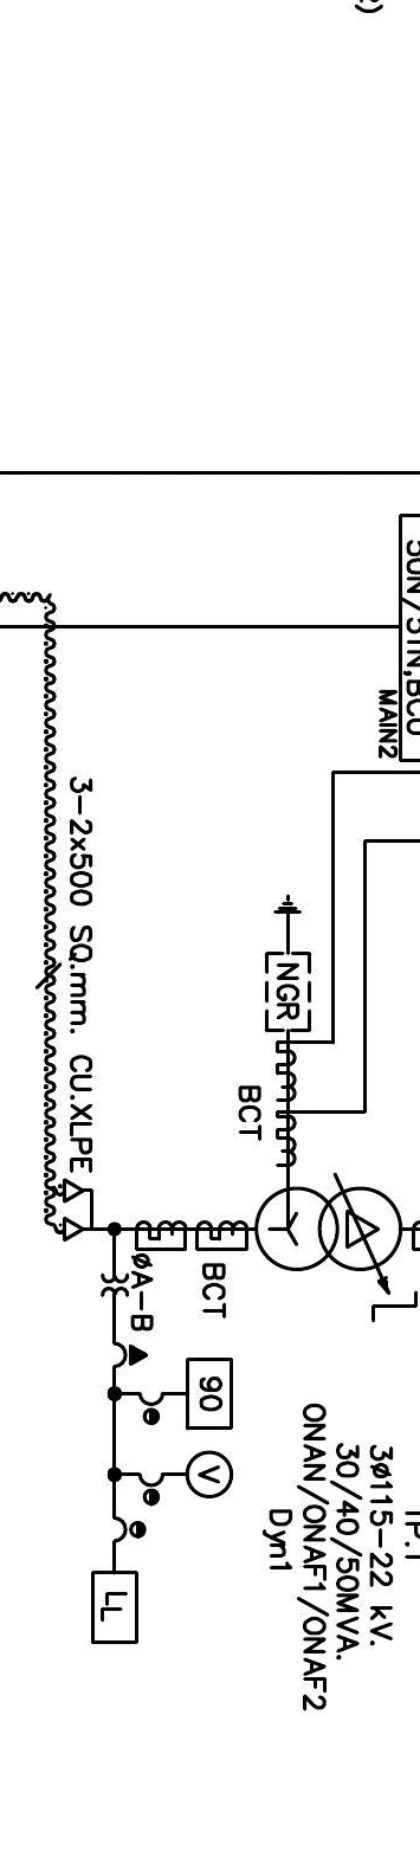11522_tx_dyn1: (254, 1186, 403, 1272)
LL: (90, 1570, 139, 1645)
NGR_future: (264, 893, 312, 1033)
terminator_double: (62, 1178, 94, 1242)
v_m: (185, 1449, 235, 1500)
